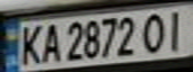2: (115, 12, 142, 59), (63, 18, 84, 62)
7: (96, 15, 121, 58)
8: (81, 16, 103, 61)
A: (36, 20, 63, 64)
I: (160, 7, 193, 52)
K: (15, 21, 45, 66)
O: (139, 10, 172, 55)
